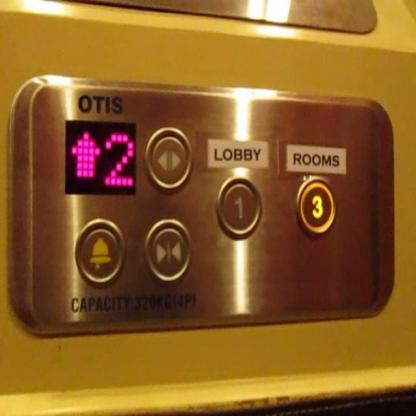1: (213, 172, 263, 244)
3: (292, 174, 338, 238)
alarm: (72, 216, 126, 288)
close: (140, 217, 192, 283)
led: (62, 116, 137, 196)
open: (143, 123, 194, 194)
